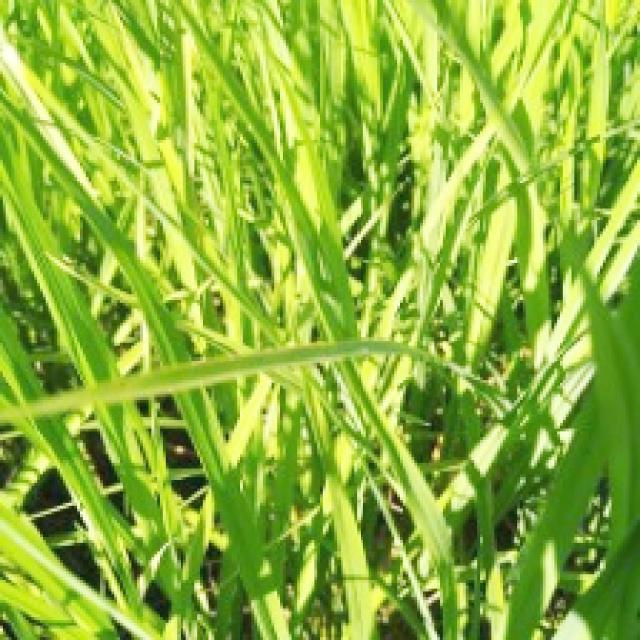health: (174, 169, 482, 430)
